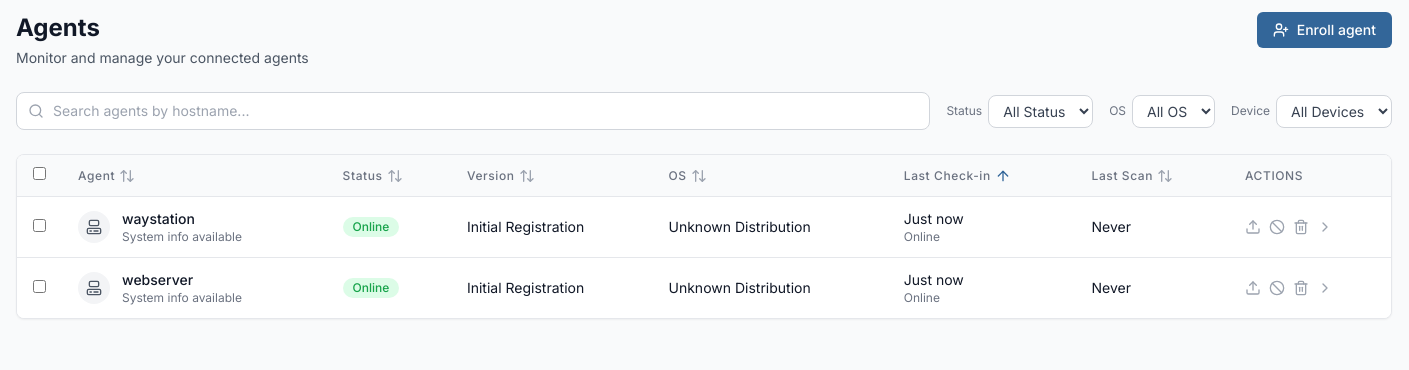
Test: Agents page filter integration › changing Status filter updates the URL and shows pills
Step 1. Select "Online" in the 1st dropdown showing "All Status" → [1041, 111], box [988,94,1093,128]
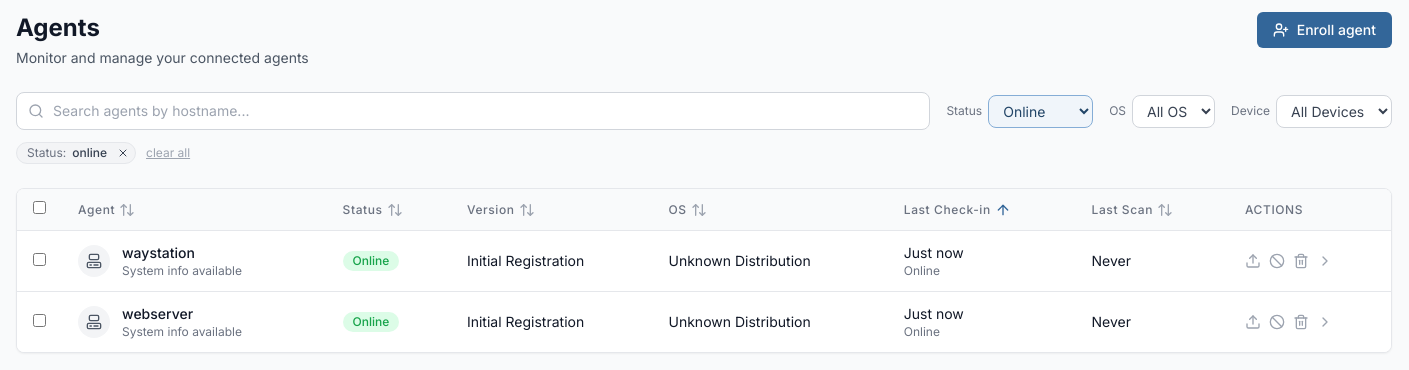
Now the text "online" is shown, box [72,145,107,161]
Now the button "clear all" is shown, box [146,145,190,161]
